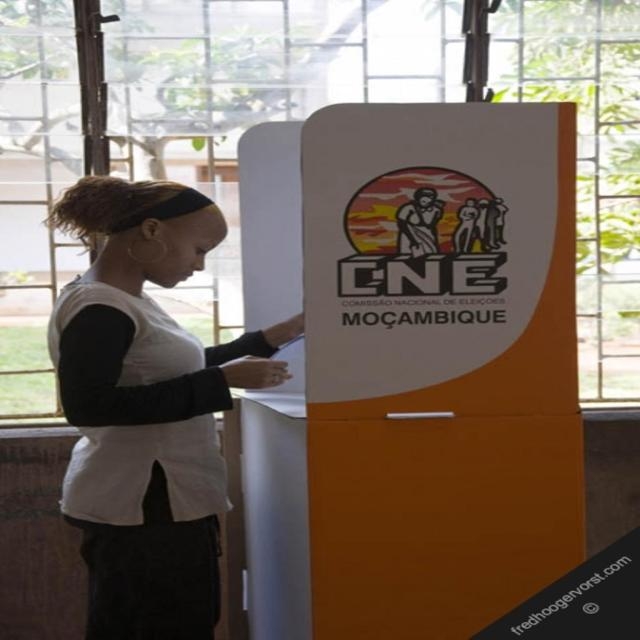Face: (120, 192, 229, 298)
